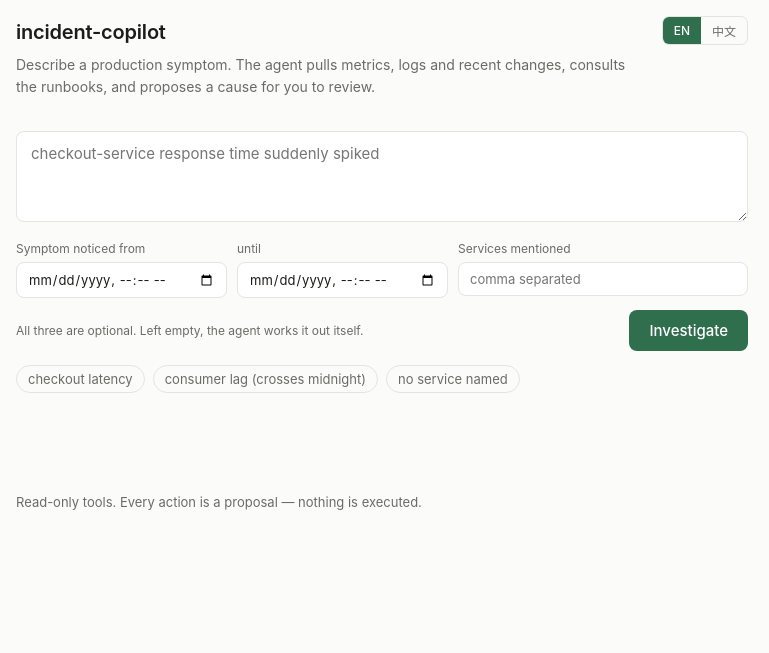
Test: App › stops a running investigation and aborts the request
Step 1. Click the button "checkout latency" → (80, 380), box [16,366,145,394]
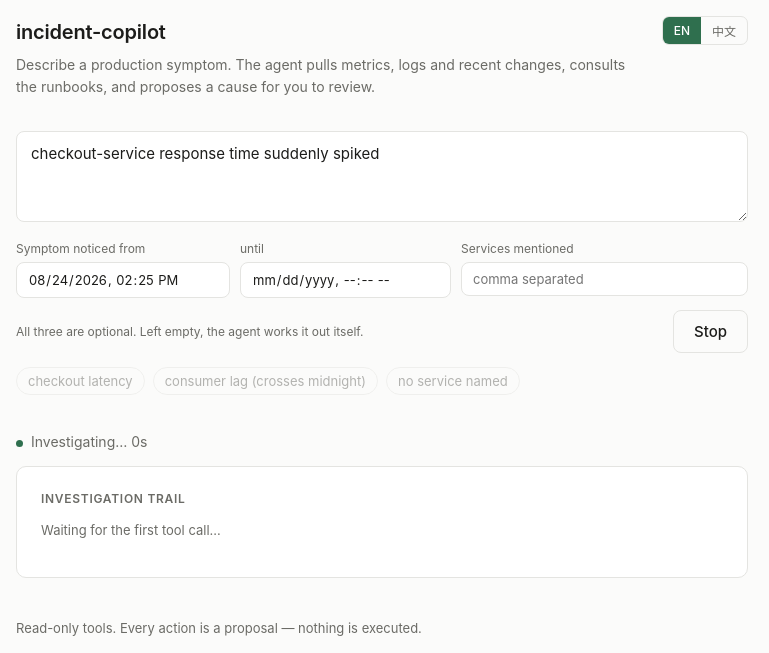
Step 2. Click the button "Stop" → (710, 332), box [673,310,748,354]
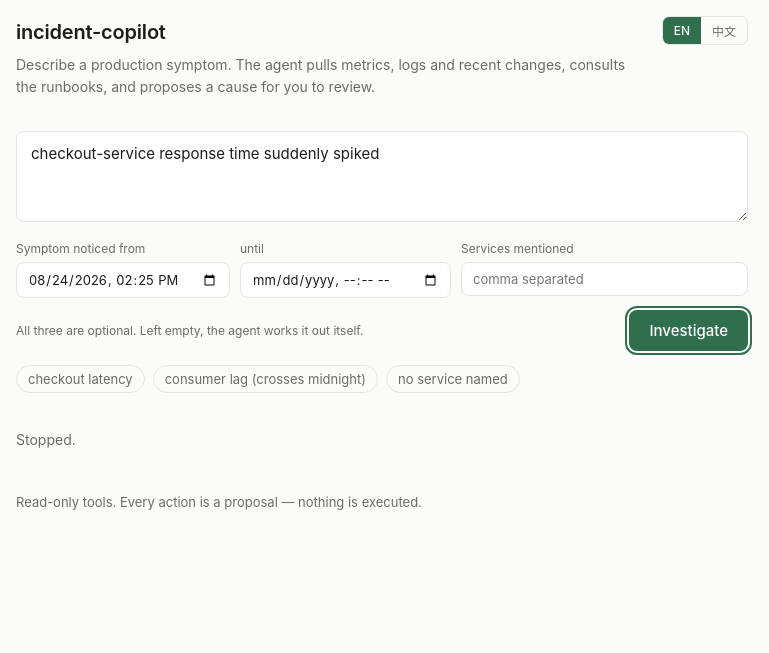
Expected: the button "Investigate" is enabled, [629,310,748,352]
Now the message reads "Stopped.", box [16,432,76,448]
